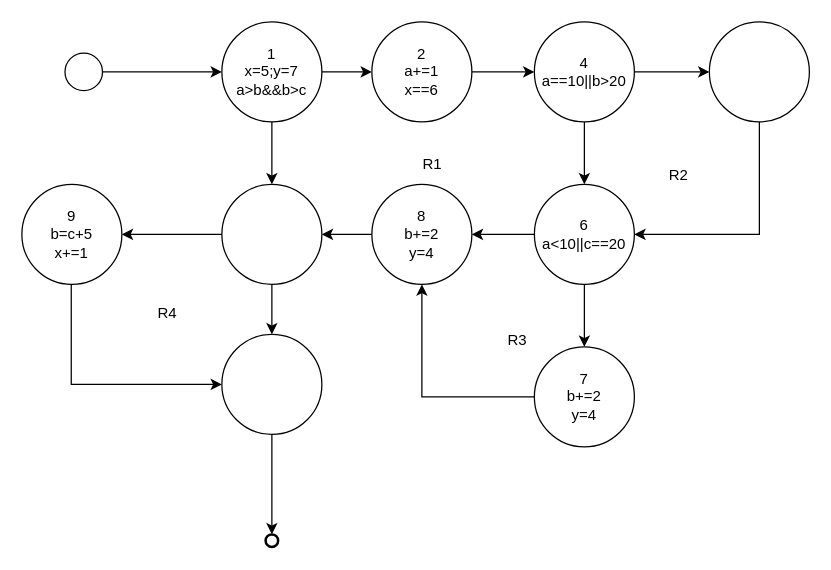
Some shapes in this 831 by 570 pixel diagram are drawn without their labels. Each missing label, with the centre of its shape:
3 a>5 || c<10: point 271,233
5 b+=1 x=y+4: point 758,71
9 p.x=x q.y=y: point 271,383
